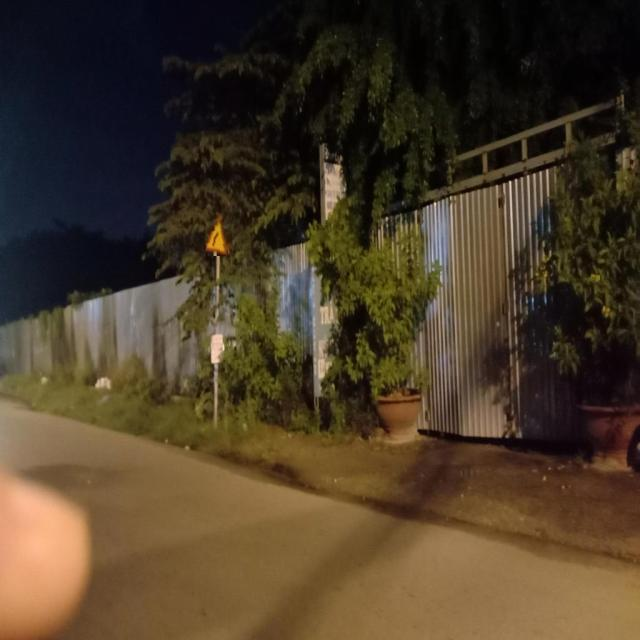cho_ngoat_nguy_hiem_ben_phai: (206, 212, 231, 256)
